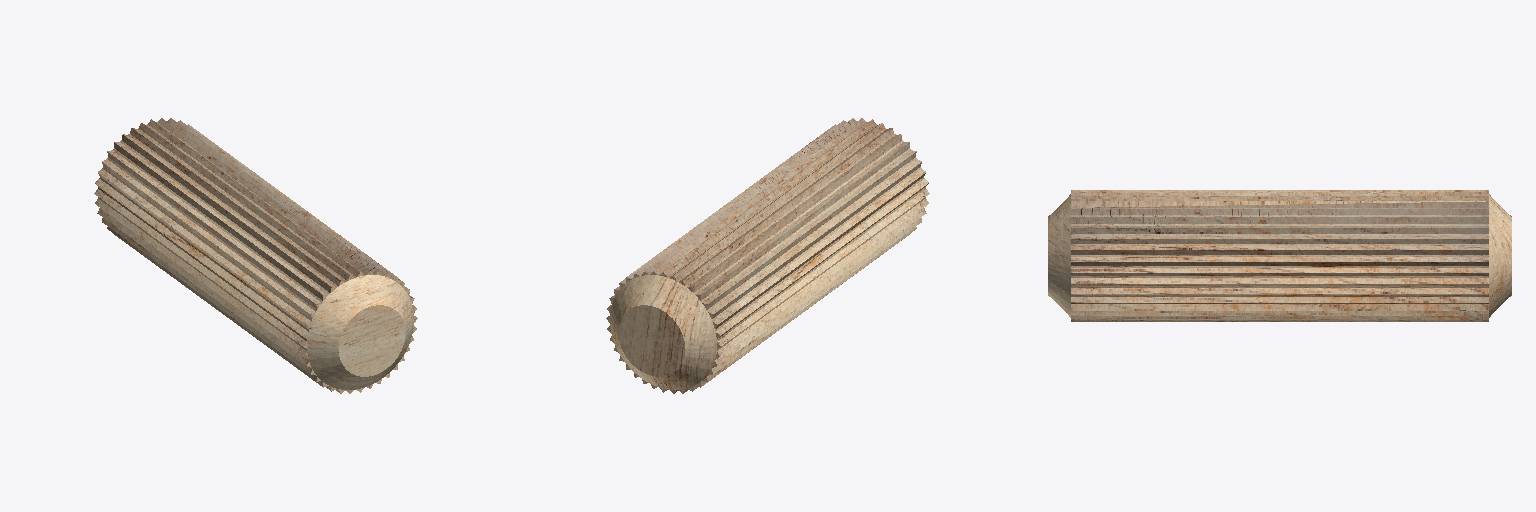
The picture shows the model from 3 angles: view 1: azimuth 30°, elevation 25°; view 2: azimuth 150°, elevation 25°; view 3: azimuth 270°, elevation 25°; orthographic projection.
Visible parts, largest first — view 1: Part__Feature; view 2: Part__Feature; view 3: Part__Feature.
Boxes of the visible parts, box(x1,y1,x2,y2) form: Part__Feature: box(94, 118, 417, 393); Part__Feature: box(606, 118, 929, 393); Part__Feature: box(1048, 190, 1511, 321).
Bounding box in the file's own units: 8.6 × 8.6 × 30.
Materials: 1 (1 with a texture image).